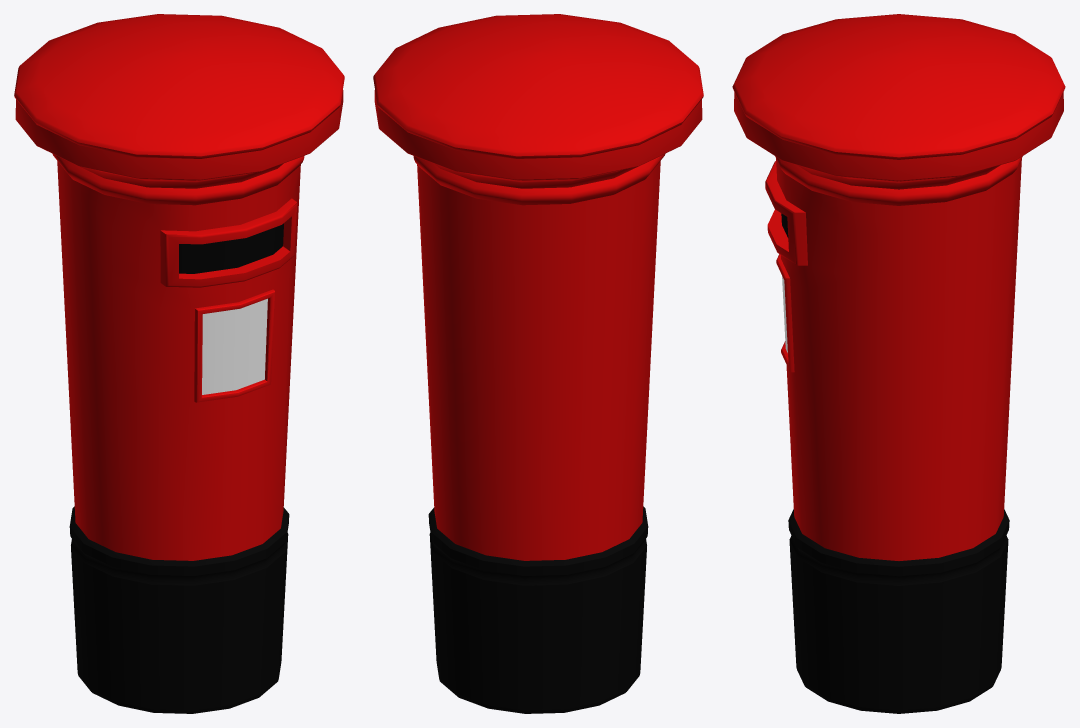
File: Postbox.FBX
The picture shows the model from 3 angles, left to right: view 1: azimuth 30°, elevation 25°; view 2: azimuth 150°, elevation 25°; view 3: azimuth 270°, elevation 25°; orthographic projection.
Visible parts, largest first — view 1: English Postbox004; view 2: English Postbox004; view 3: English Postbox004.
Part boxes in pixels (x1,y1,x2,y2): English Postbox004: (14, 14, 344, 713); English Postbox004: (373, 14, 703, 713); English Postbox004: (732, 14, 1065, 713).
Size of the model in its own units: 11.27 by 11.27 by 23.12.
